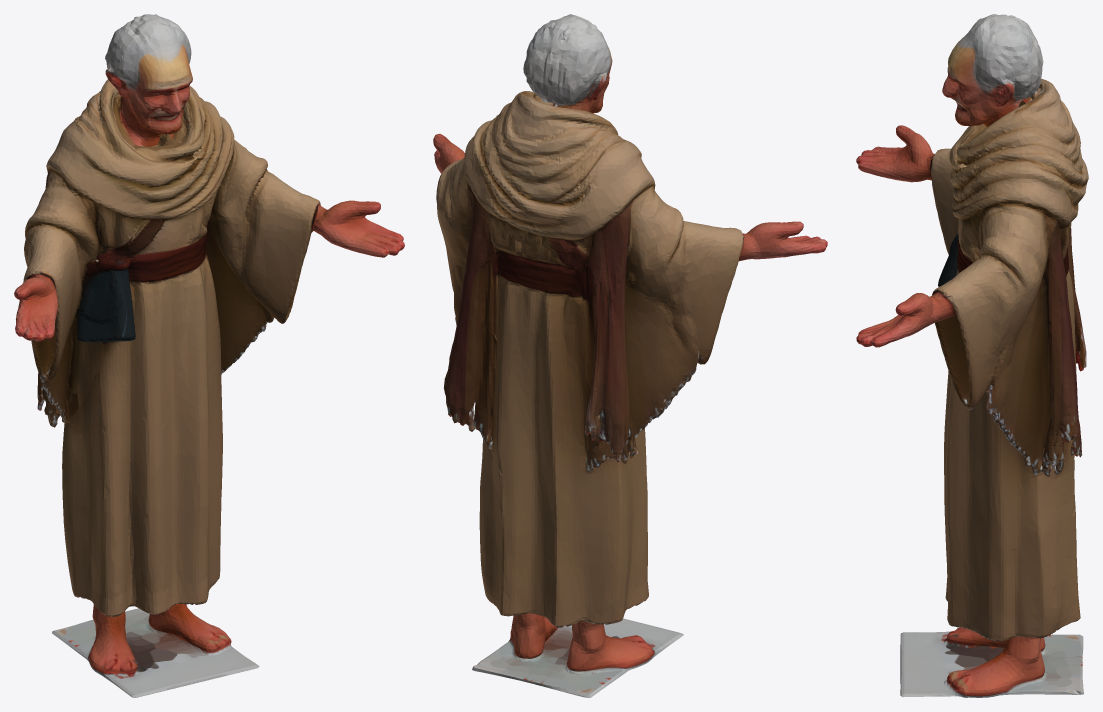
File: villager_elder.glb
3 renders of one model, left to right at view 1: azimuth 30°, elevation 25°; view 2: azimuth 150°, elevation 25°; view 3: azimuth 270°, elevation 25°, orthographic. The views are drawn at different scales.
Visible parts, largest first — view 1: textured_mesh.obj; view 2: textured_mesh.obj; view 3: textured_mesh.obj.
Boxes of the visible parts, left/top/right/bottom form: textured_mesh.obj: left=14, top=14, right=404, bottom=697; textured_mesh.obj: left=433, top=14, right=827, bottom=697; textured_mesh.obj: left=856, top=14, right=1088, bottom=697.
Bounding box in the file's own units: 1.28 × 1.99 × 0.6435.
Materials: 1 (1 with a texture image).
